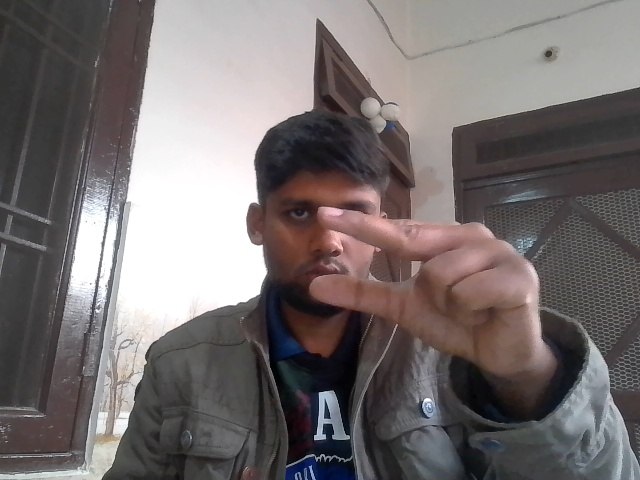No: (300, 193, 547, 364)
